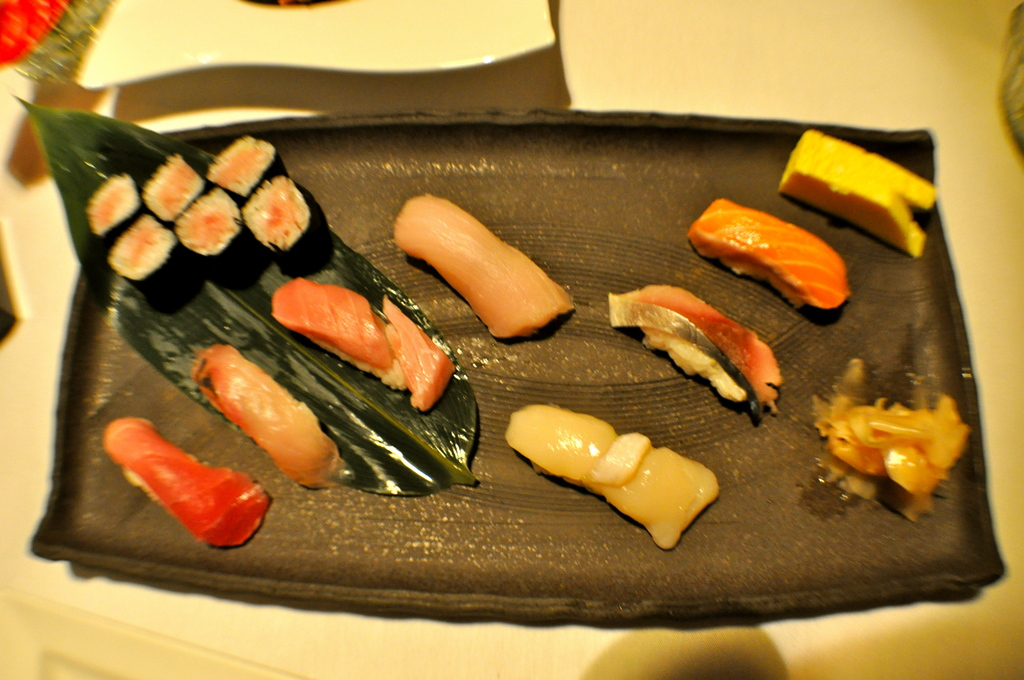sushi: (89, 136, 337, 314), (504, 407, 717, 549), (395, 196, 576, 337), (261, 283, 459, 406), (193, 344, 359, 486), (104, 420, 271, 549), (691, 197, 854, 307)
